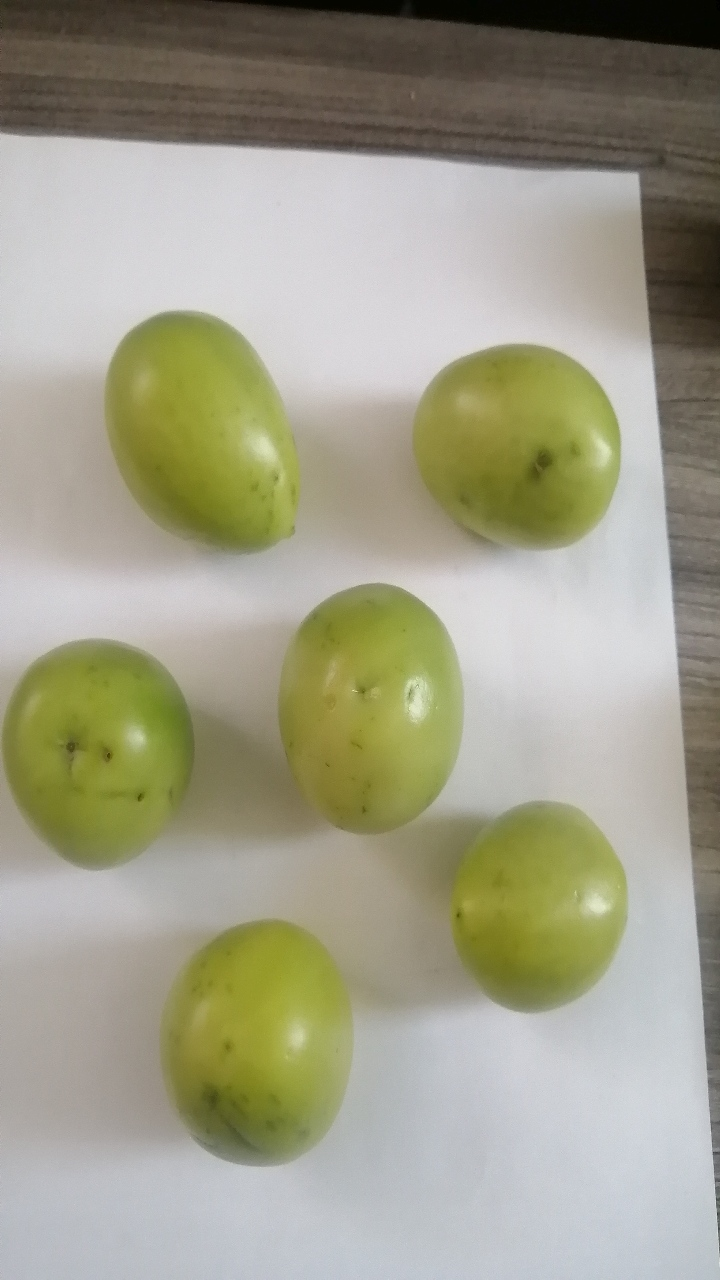tomateVerde: (80, 288, 326, 575), (146, 897, 377, 1180), (418, 779, 660, 1043), (257, 566, 472, 845), (1, 608, 200, 894), (400, 337, 637, 571)
